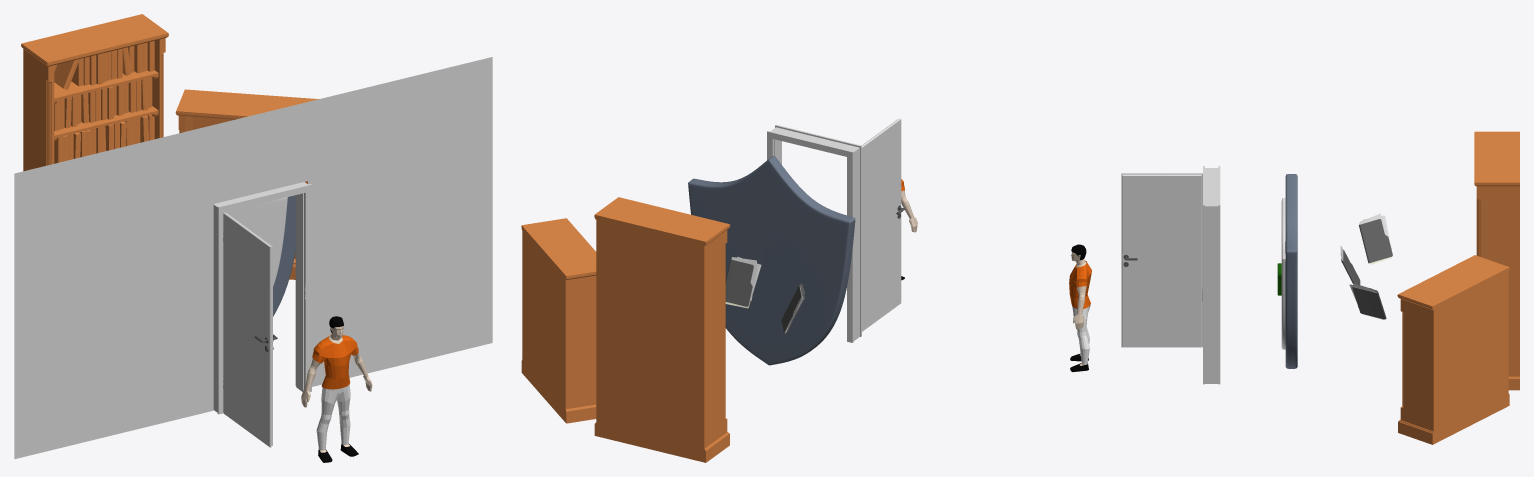
3 renders of one model, left to right at view 1: azimuth 30°, elevation 25°; view 2: azimuth 150°, elevation 25°; view 3: azimuth 270°, elevation 25°, orthographic. The views are drawn at different scales.
Parts seen in each view (by area): view 1: Plane, Plane.001, Victorian Bookcase Tall, Plane.002, Victorian Bookcase Small, Victorian Bookcase Tall Books 6, Victorian Bookcase Tall Books 7, Victorian Bookcase Tall Books 5, shield.001_2, Human full_Material.004_0.001, Human full_Material.005_0.001, shield_1 (+2 smaller); view 2: Victorian Bookcase Tall, shield_1, Victorian Bookcase Small, Plane.001, Plane.002, Folder_1Shape; view 3: Victorian Bookcase Small, Plane.001, Victorian Bookcase Tall, Plane.002, shield_1, Folder_1Shape.001, shield.001_2, Human full_Material.004_0.001, Folder_1Shape.002, Human full_Material.005_0.001, Human full_Material.003_0.001.
Boxes of the visible parts, x1,y1,x2,y2 form: Plane: (14,57,492,459); Plane.001: (223,212,273,447); Victorian Bookcase Tall: (21,14,168,171); Plane.002: (213,182,311,414); Victorian Bookcase Small: (175,89,318,279); Victorian Bookcase Tall Books 6: (54,77,152,130); Victorian Bookcase Tall Books 7: (54,41,154,89); Victorian Bookcase Tall Books 5: (54,115,154,163); shield.001_2: (225,197,287,286); Human full_Material.004_0.001: (312,335,358,389); Human full_Material.005_0.001: (316,384,350,450); shield_1: (273,195,295,316); Victorian Bookcase Tall: (594,197,730,462); shield_1: (688,155,855,365); Victorian Bookcase Small: (521,218,596,423); Plane.001: (862,118,901,331); Plane.002: (767,124,861,342); Folder_1Shape: (725,259,753,306); Victorian Bookcase Small: (1397,255,1509,444); Plane.001: (1121,173,1202,347); Victorian Bookcase Tall: (1474,131,1519,390); Plane.002: (1202,166,1220,384); shield_1: (1285,174,1297,368); Folder_1Shape.001: (1359,219,1392,263); shield.001_2: (1281,198,1285,349); Human full_Material.004_0.001: (1069,260,1091,308); Folder_1Shape.002: (1352,287,1386,319); Human full_Material.005_0.001: (1072,305,1090,364); Human full_Material.003_0.001: (1070,252,1086,365).
Bounding box in the file's own units: 7.22 × 4.18 × 6.82.
16 materials, 1 textured.
